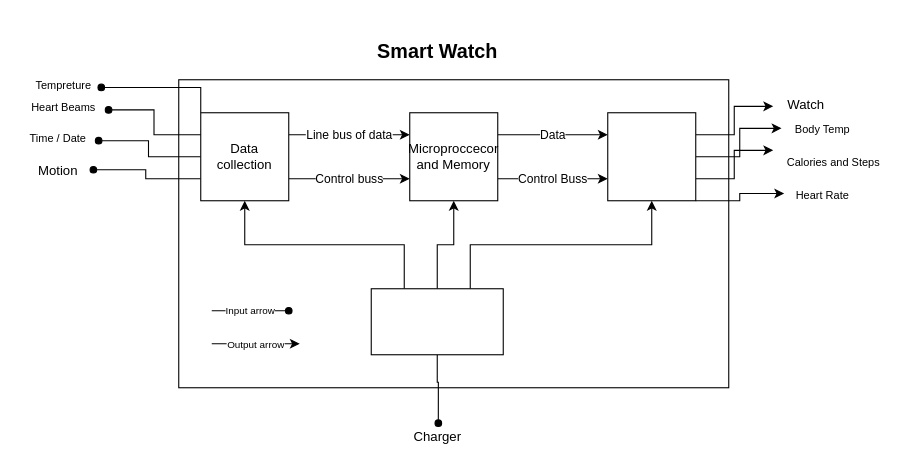
Image size: 912x472. Some labels were removed from this diagram. Each missing label, with the centre of its shape:
"Battery (Power Supplier" goes at point (436, 321).
"Display (sound or screen)" goes at point (651, 156).
